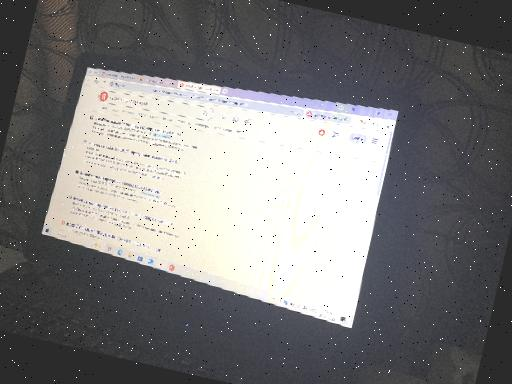yandex: (38, 62, 394, 318)
